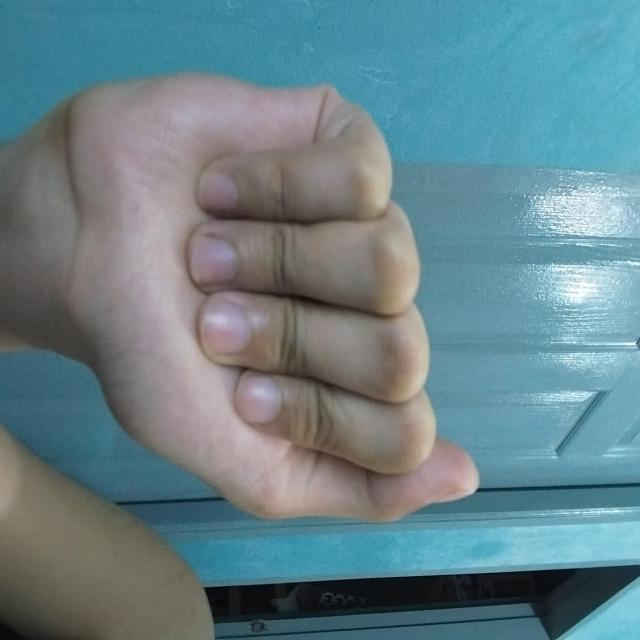A: (78, 159, 522, 572)
